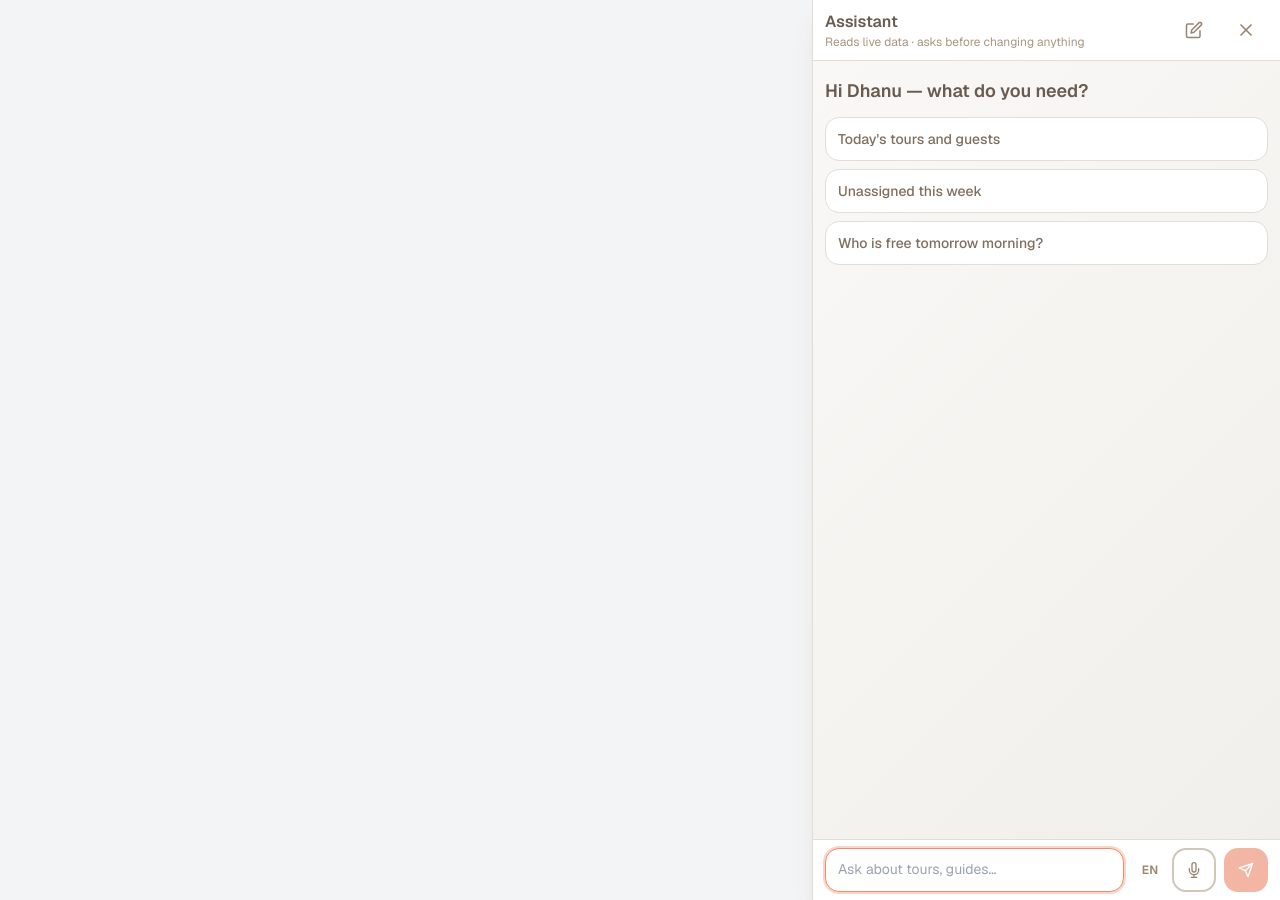
Test: VoiceInput in the chat (step 7.6) › permission denied -> one clear line, nothing in the box
Click the button with test id "voice-mic" at (1194, 870), box top-left (1172, 848), bottom-right (1216, 892)
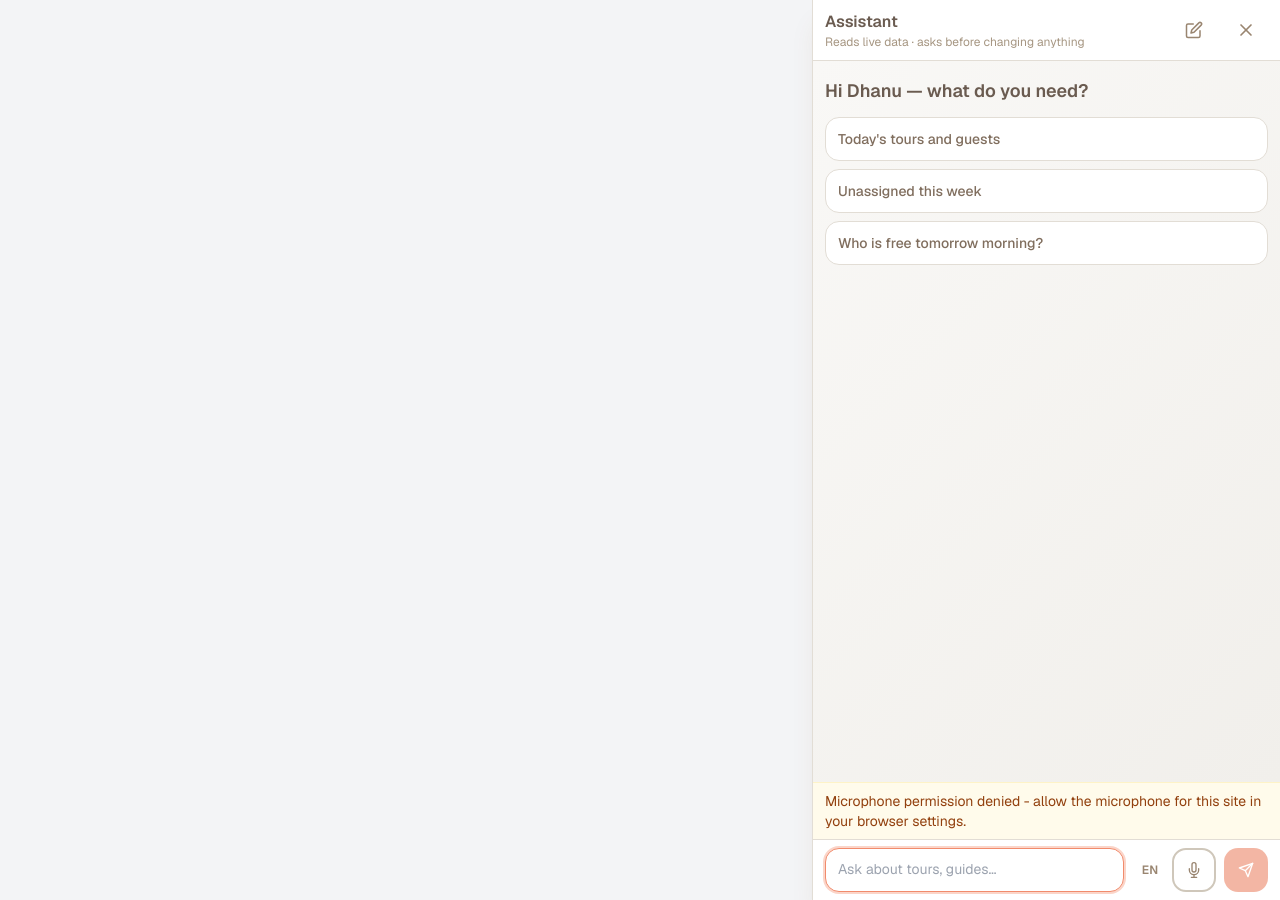
Expected: the text box named "Message" is empty, top-left (825, 848), bottom-right (1124, 892)
Result: the message shows "Microphone permission denied - allow the microphone for this site in your browser settings." at top-left (825, 792), bottom-right (1261, 830)
